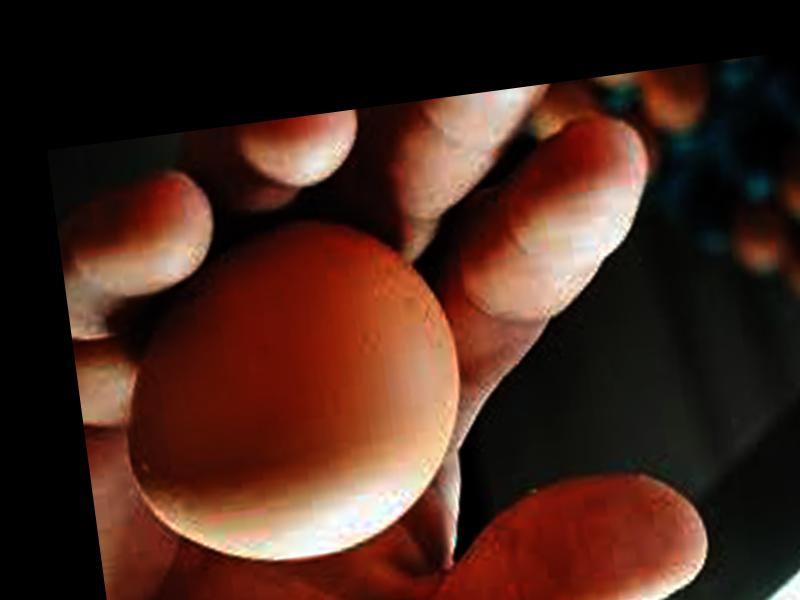Eggs: (95, 197, 482, 578)
